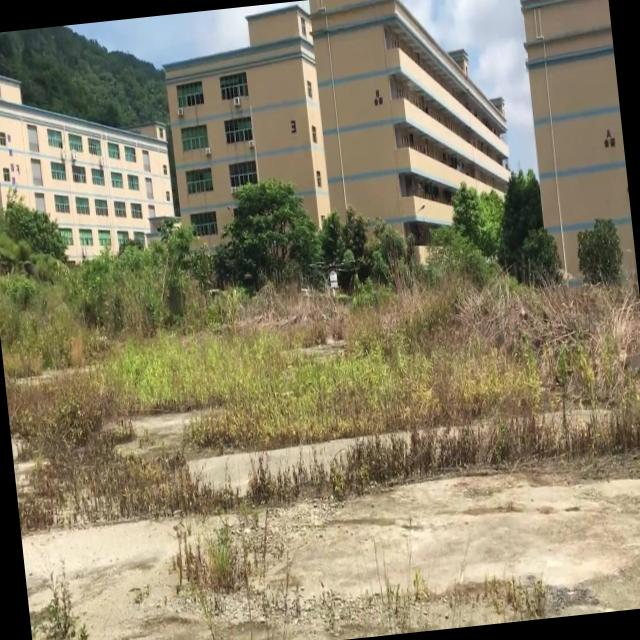drone: (309, 252, 355, 288)
